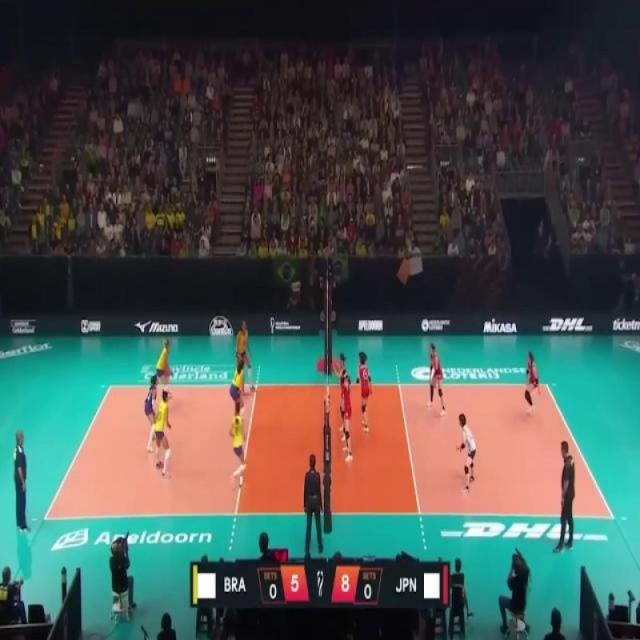volleyball: (290, 280, 302, 292)
